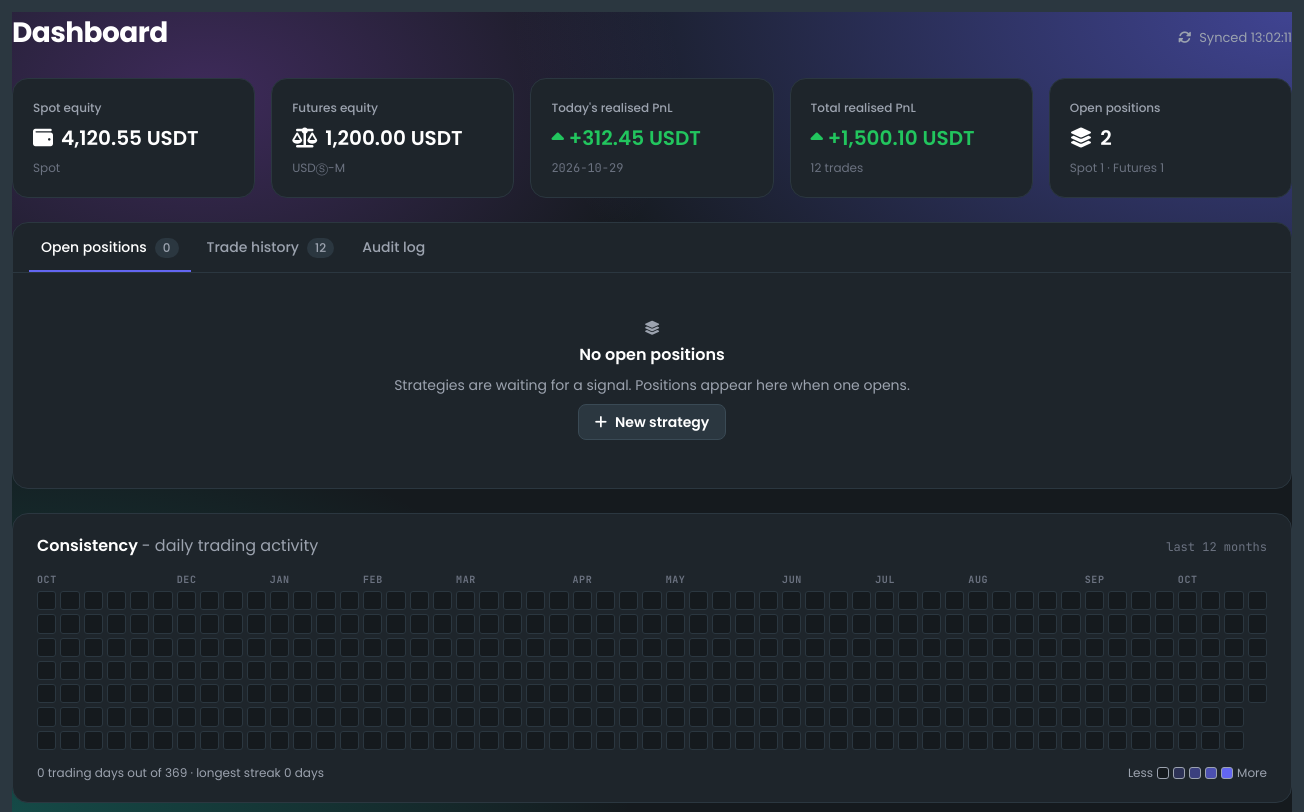
Test: Dashboard page › loads the audit log on demand and shows the secrets note
Click the tab "Audit log" at (394, 248), box [350, 223, 437, 272]
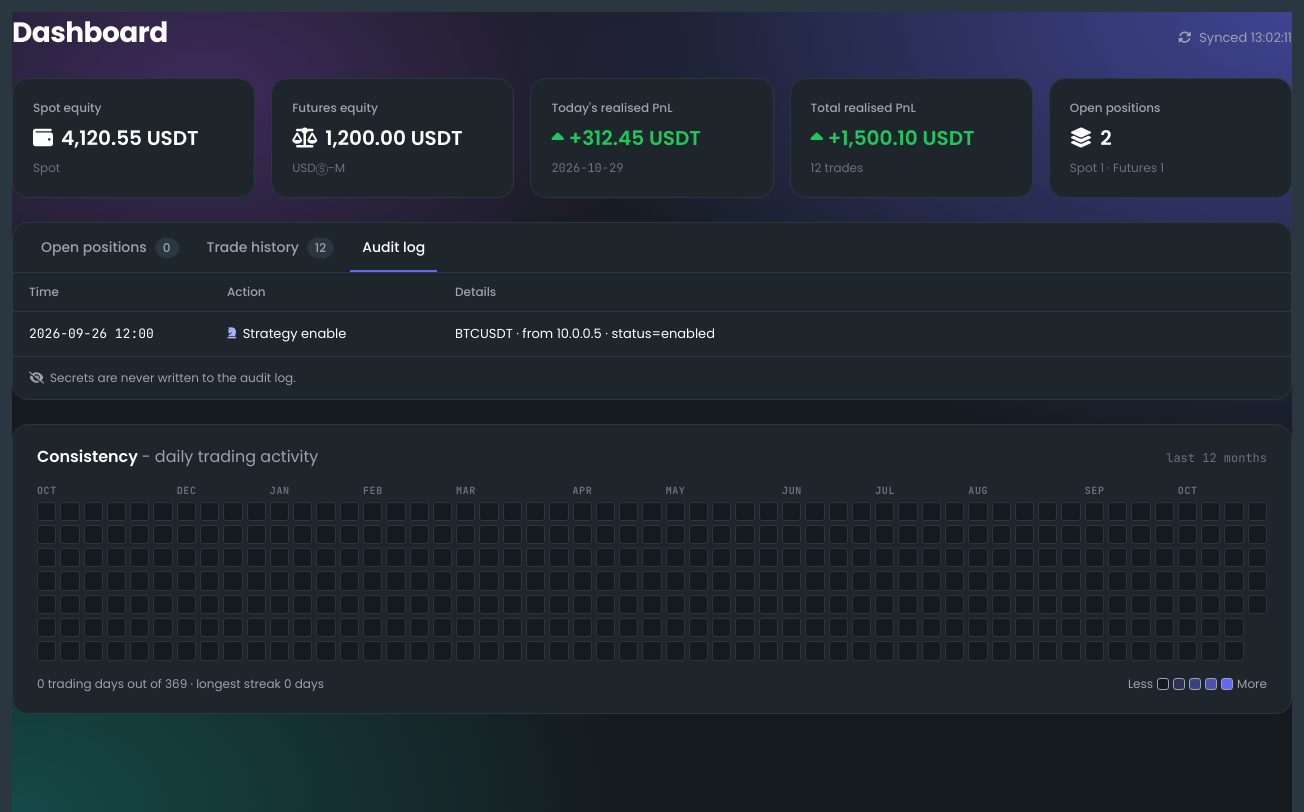
expect the text "Strategy enable" is shown: met, box [227, 324, 346, 343]
expect the text "Secrets are never written to the audit log." is shown: met, box [29, 368, 296, 386]
